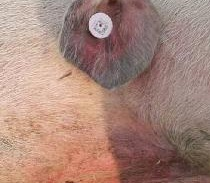text: (78, 3, 124, 43)
